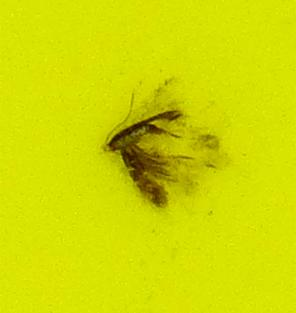Lepidoptera: (100, 100, 196, 213)
